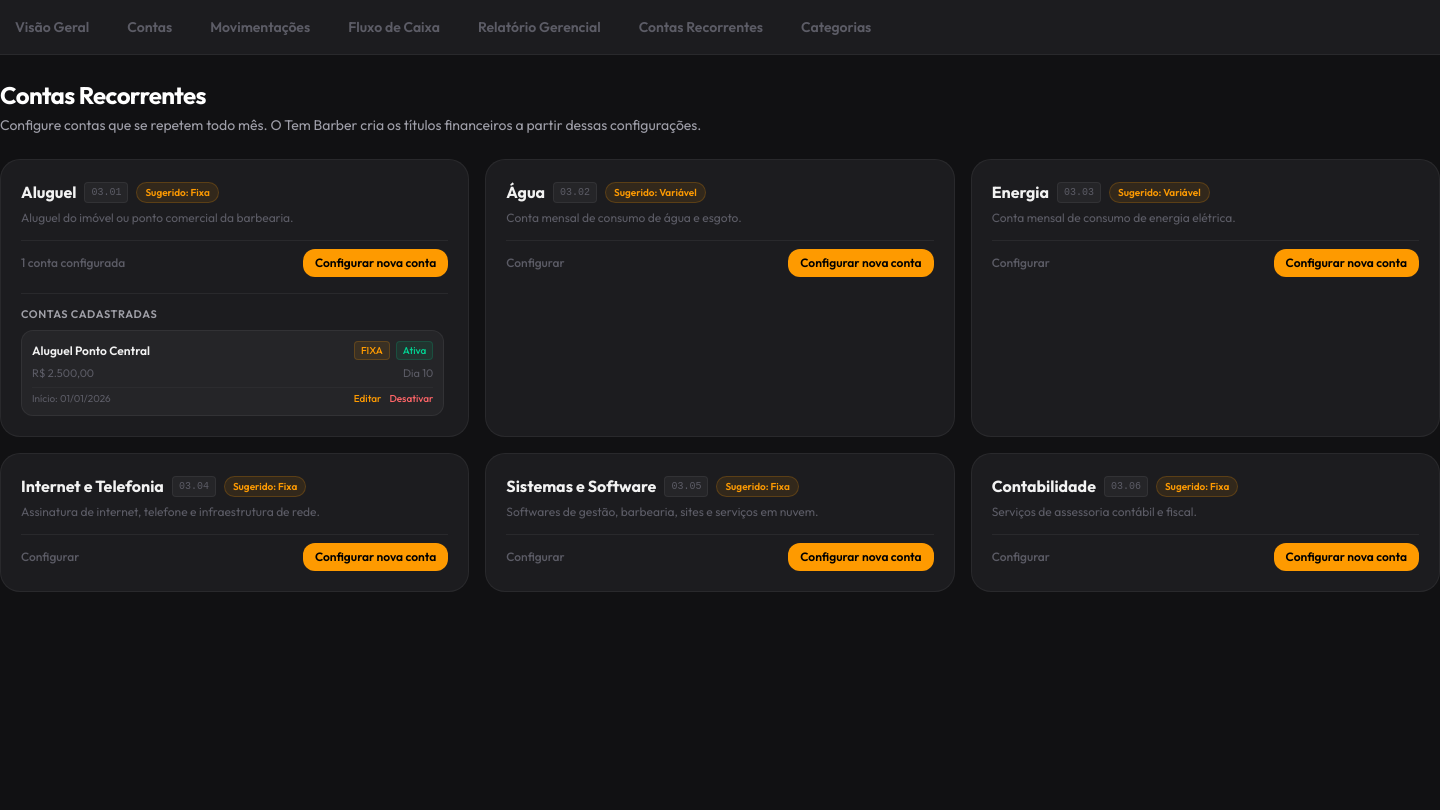
Test: ConfiguracoesFinanceirasPage — UX-C Suite › 13. modal de Aluguel inicia com modo FIXED
Expected: the heading "Aluguel" is shown, [21, 180, 76, 204]
Click the button "Configurar nova conta" in the row of "1 conta configurada".
click(376, 262)  # box [303, 248, 448, 276]
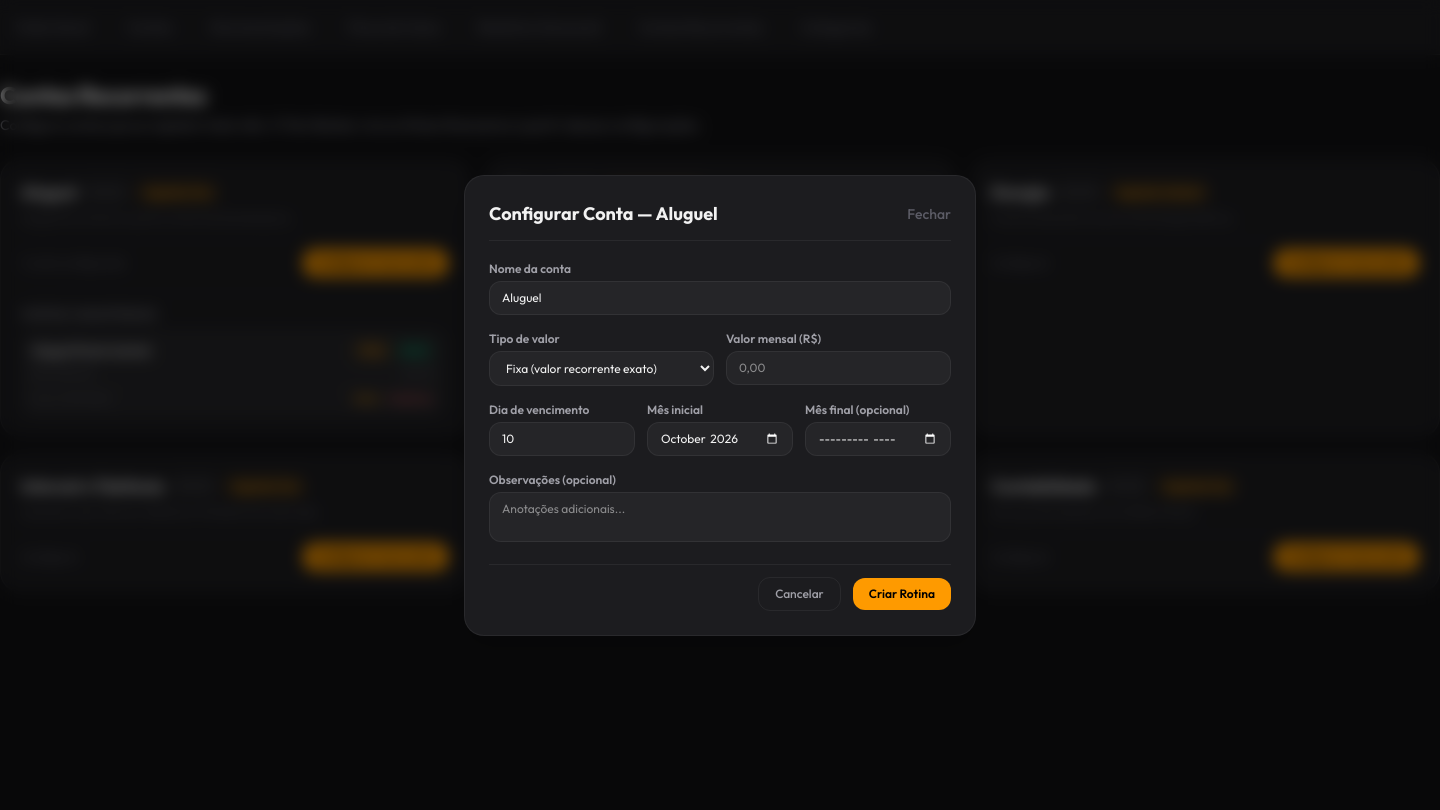
Expected: the dropdown shows "Fixa (valor recorrente exato)", [489, 350, 714, 386]
